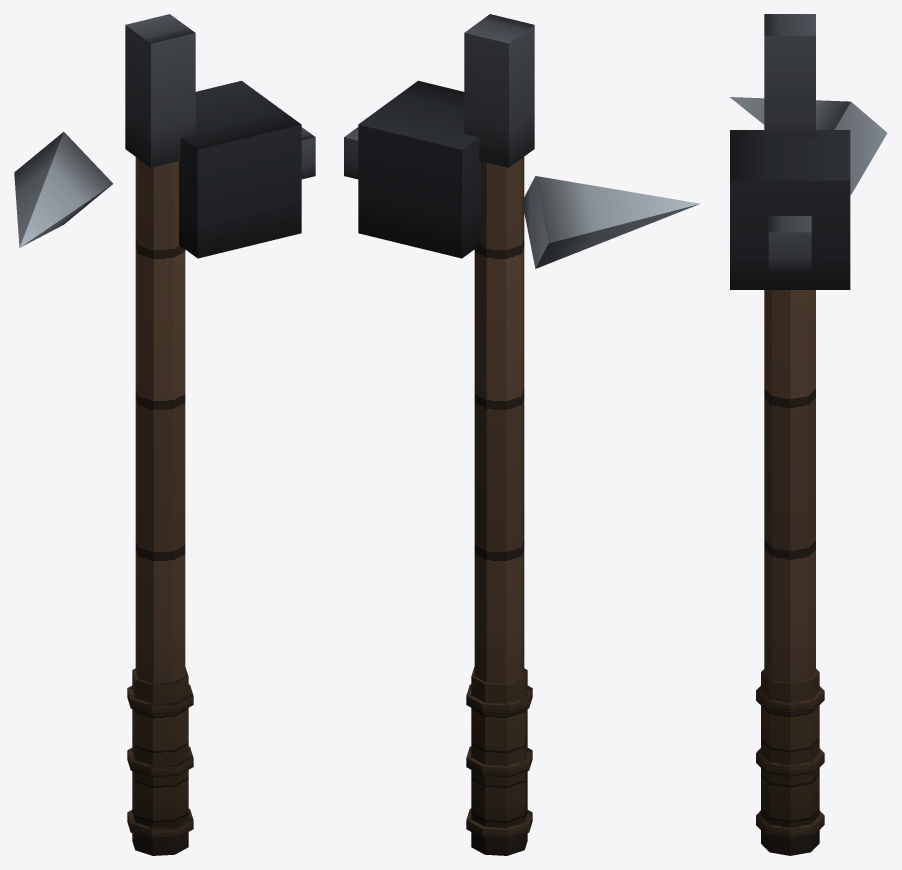
The model's file is warhammer.gltf.
The picture shows the model from 3 angles, left to right: view 1: azimuth 30°, elevation 25°; view 2: azimuth 150°, elevation 25°; view 3: azimuth 270°, elevation 25°; orthographic projection.
Visible parts, largest first — view 1: warhammer; view 2: warhammer; view 3: warhammer.
Boxes of the visible parts, x1,y1,x2,y2 form: warhammer: (14,14,315,855); warhammer: (344,14,700,855); warhammer: (730,14,887,855).
Bounding box in the file's own units: 0.4257 × 1.05 × 0.1838.
1 material, 1 textured.
